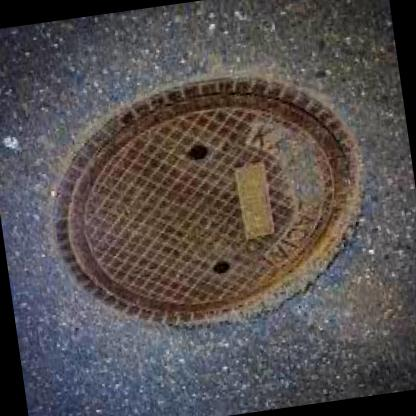manholes: (18, 10, 414, 378)
